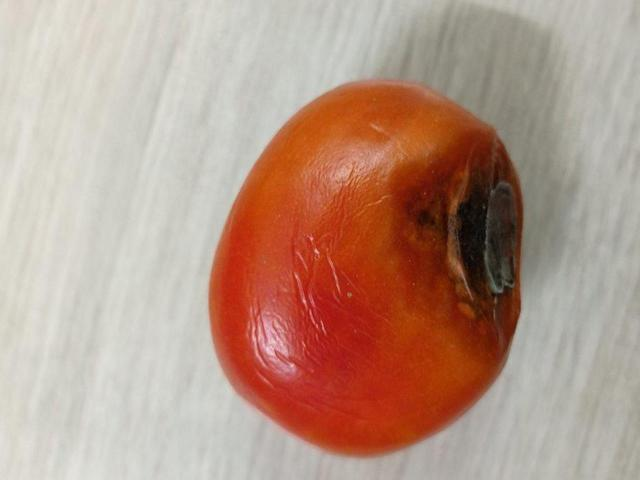defect: (203, 73, 528, 461)
